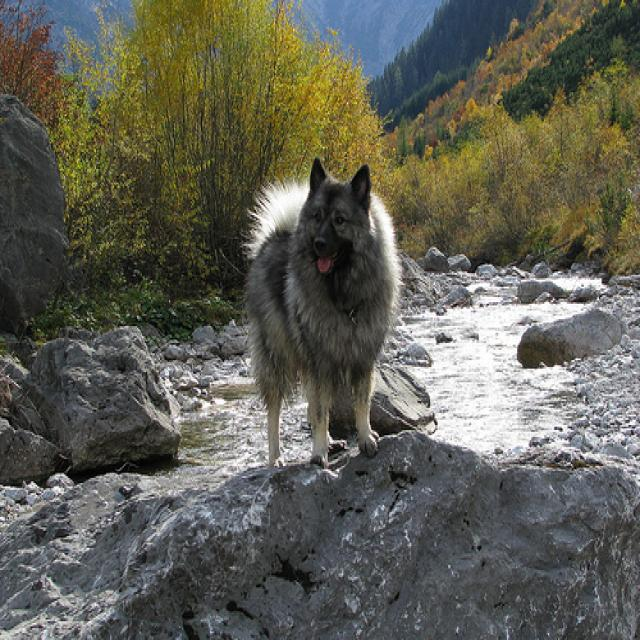dog: (305, 155, 370, 275)
